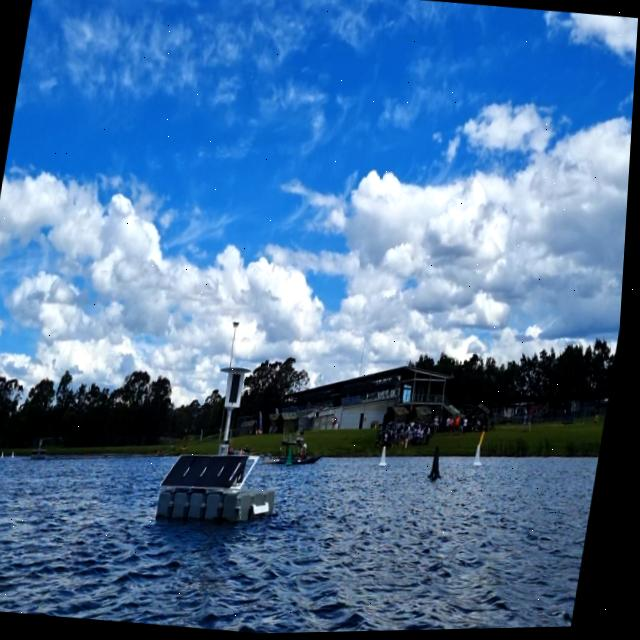led: (230, 372, 248, 407)
